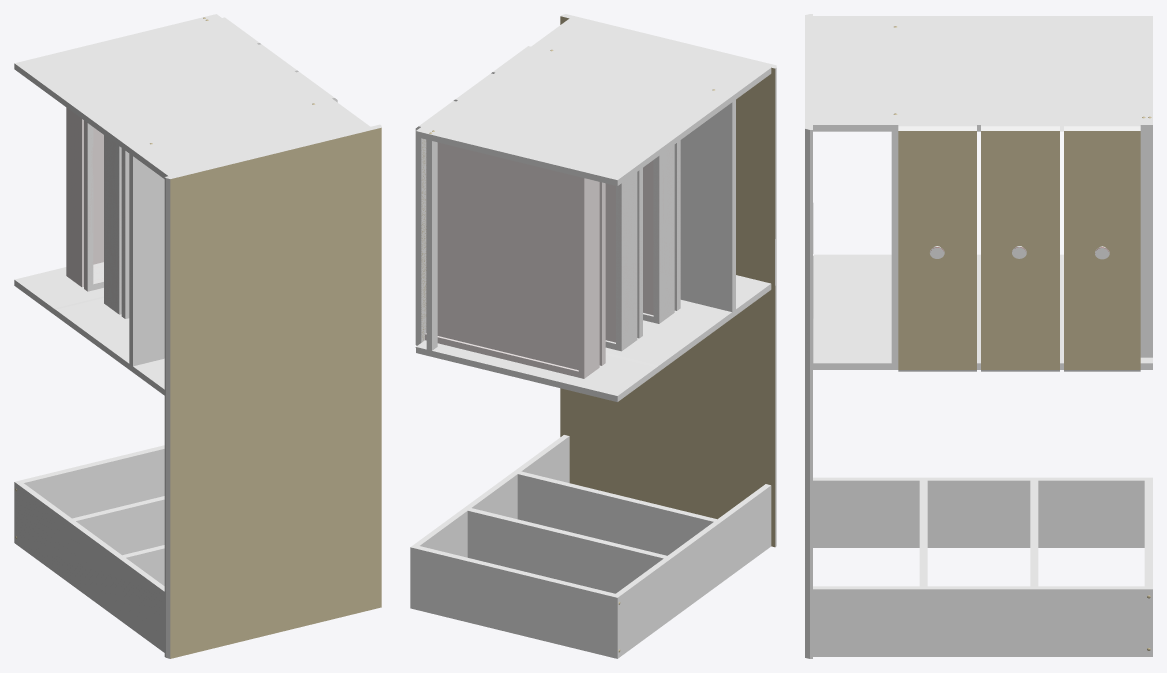
The picture shows the model from 3 angles, left to right: view 1: azimuth 30°, elevation 25°; view 2: azimuth 150°, elevation 25°; view 3: azimuth 270°, elevation 25°; orthographic projection. The views are drawn at different scales.
Visible parts, largest first — view 1: study desk; view 2: study desk; view 3: study desk.
Part boxes in pixels (box(x1,y1,x2,y2)): study desk: box(14, 14, 381, 658); study desk: box(410, 14, 776, 658); study desk: box(805, 14, 1152, 658).
Size of the model in its own units: 22.42 by 47.38 by 28.21.
